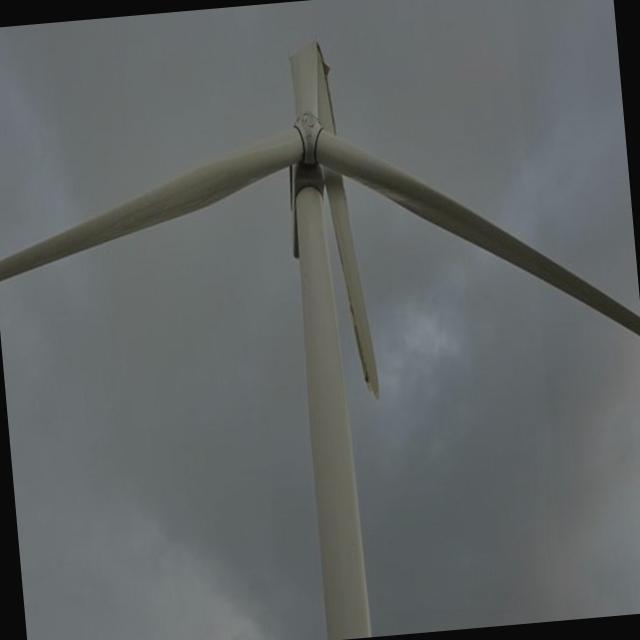crack: (278, 33, 393, 413)
